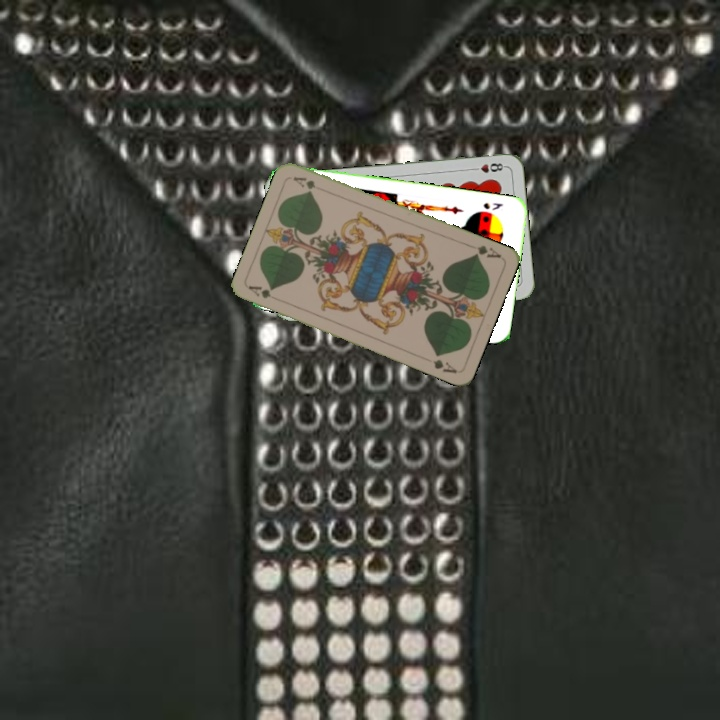GA: (464, 240, 504, 261), (245, 281, 274, 301)
H8: (467, 159, 508, 175)
SK: (479, 199, 506, 213)
